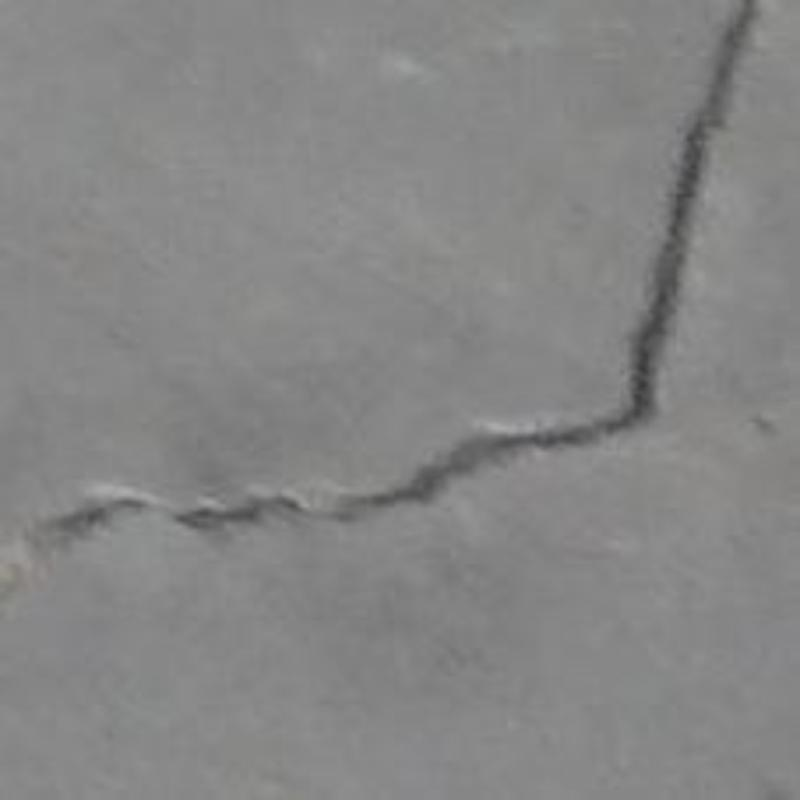pothole: (21, 0, 761, 557)
